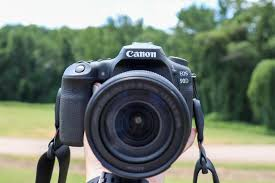camera: (61, 54, 193, 173)
